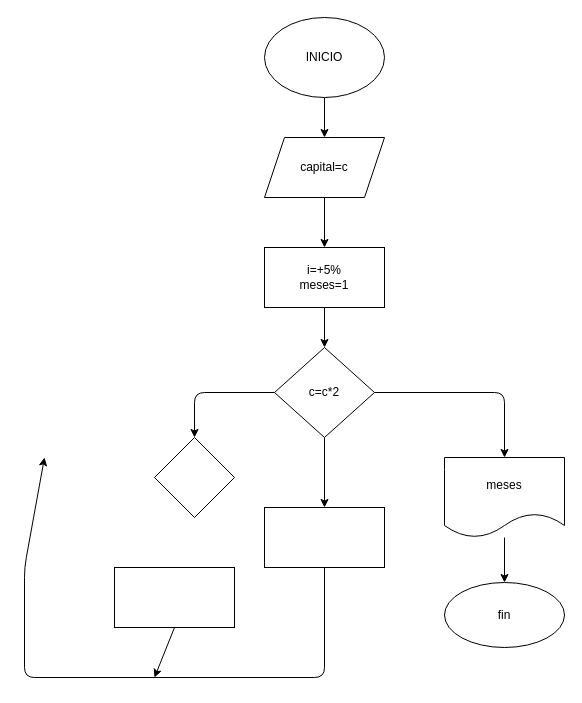
Image size: 582x703. Some labels were removed from this diagram. The centre of each missing label's shape, as x and y in pixels:
"c=c+i i=i+5%" goes at point (324, 537).
"m=+1" goes at point (194, 477).
"m=m+1" goes at point (174, 597).
